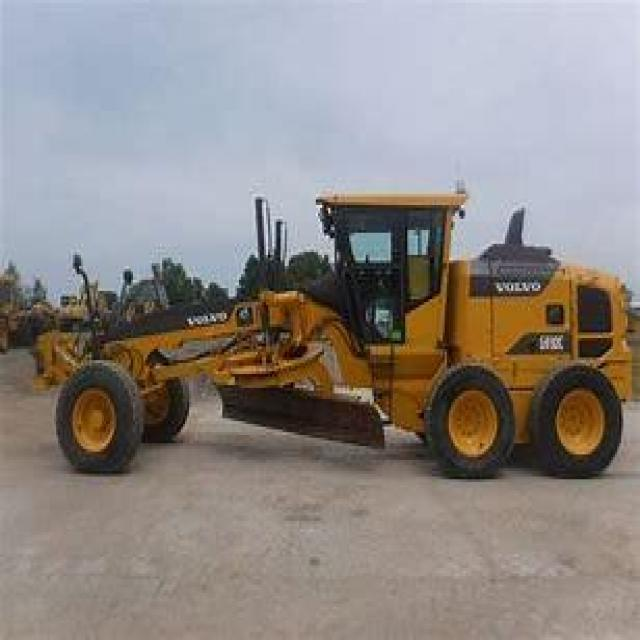Grader: (39, 166, 636, 502)
